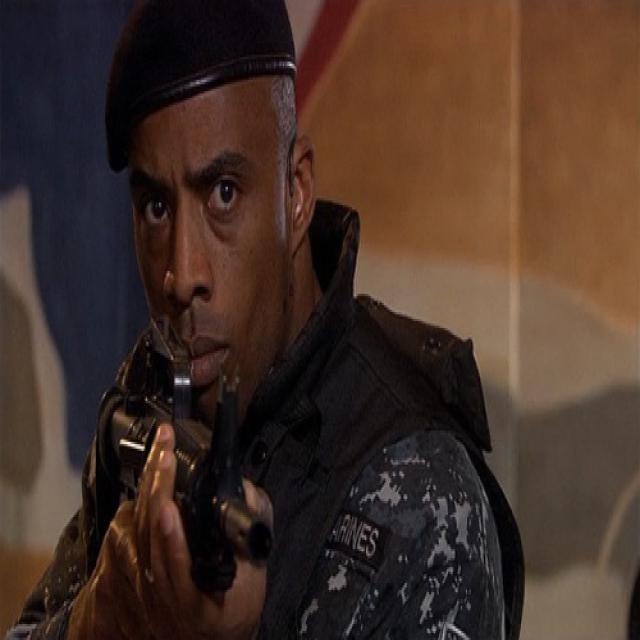rifle: (92, 304, 277, 582)
